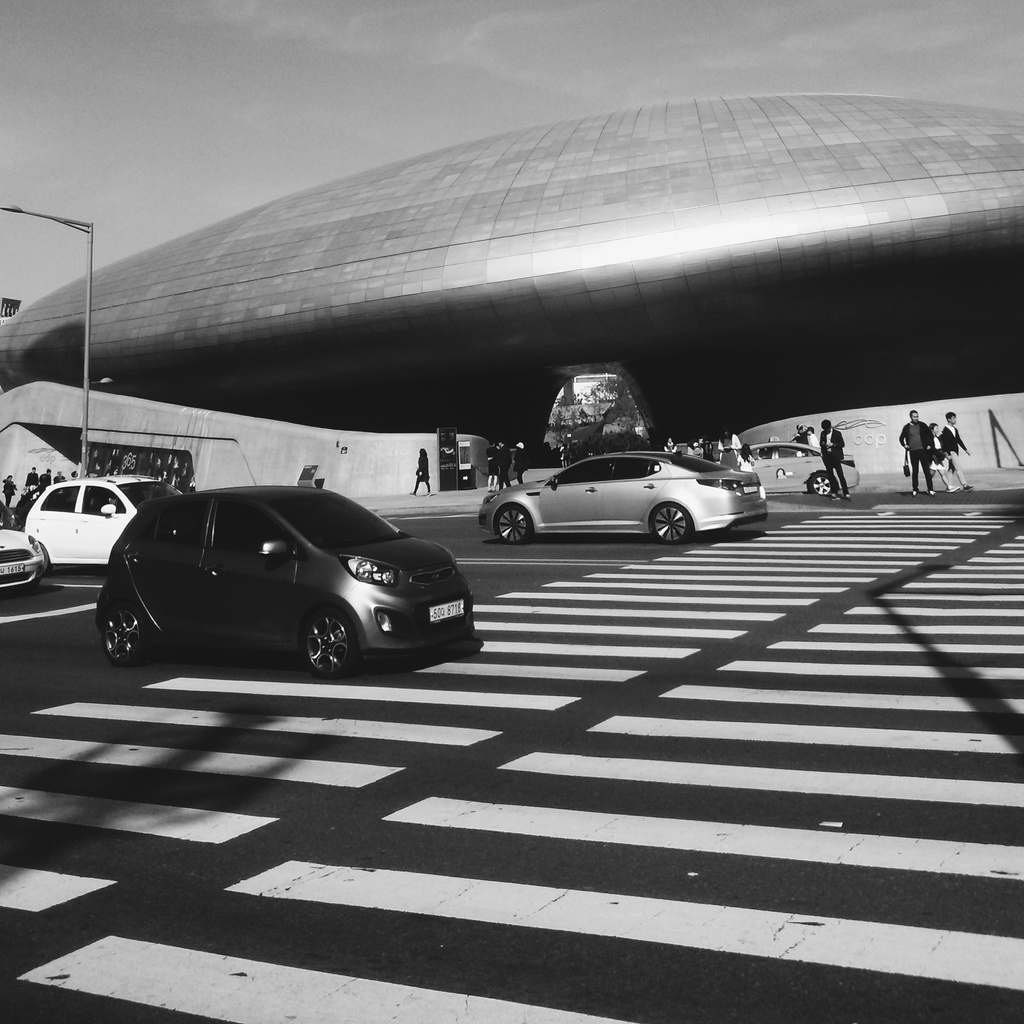Car: (97, 435, 473, 683), (475, 449, 762, 545), (23, 476, 183, 571), (727, 440, 855, 496), (0, 496, 48, 595)
